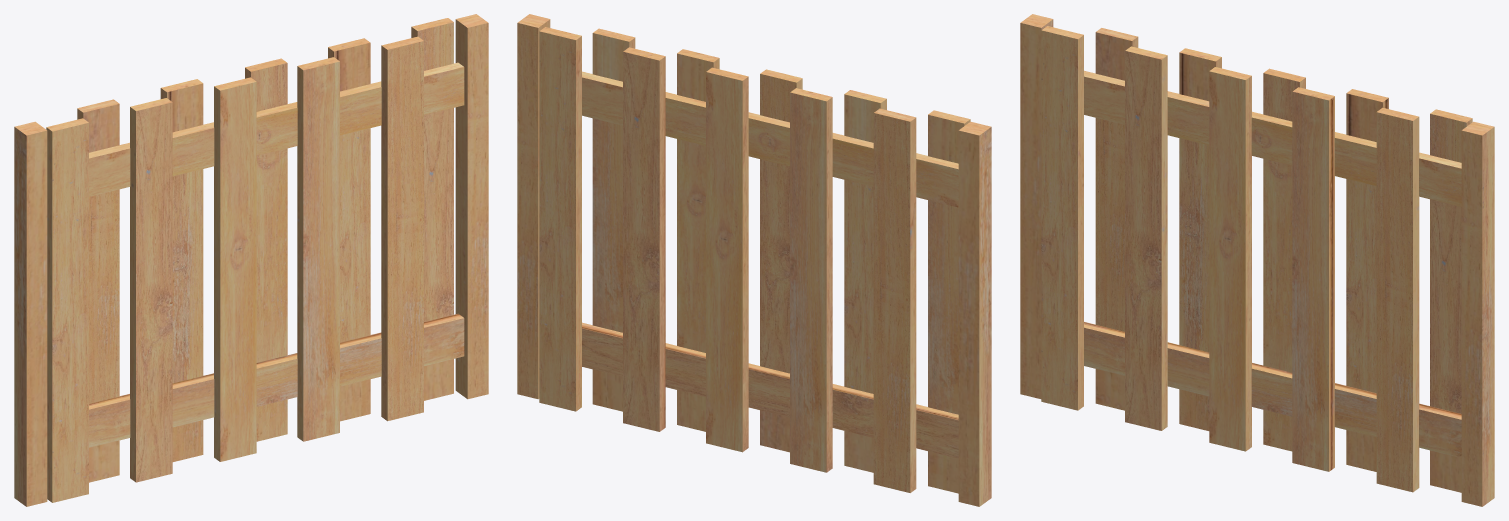
File: Wood Fence.fbx
3 renders of one model, left to right at view 1: azimuth 30°, elevation 25°; view 2: azimuth 150°, elevation 25°; view 3: azimuth 330°, elevation 25°, orthographic.
Parts seen in each view (by area): view 1: Cube.004; view 2: Cube.004; view 3: Cube.004.
Boxes of the visible parts, left/top/right/bottom form: Cube.004: left=14, top=14, right=488, bottom=506; Cube.004: left=517, top=14, right=991, bottom=506; Cube.004: left=1020, top=14, right=1494, bottom=506.
Bounding box in the file's own units: 884 × 679 × 58.78.
1 material, 1 textured.
